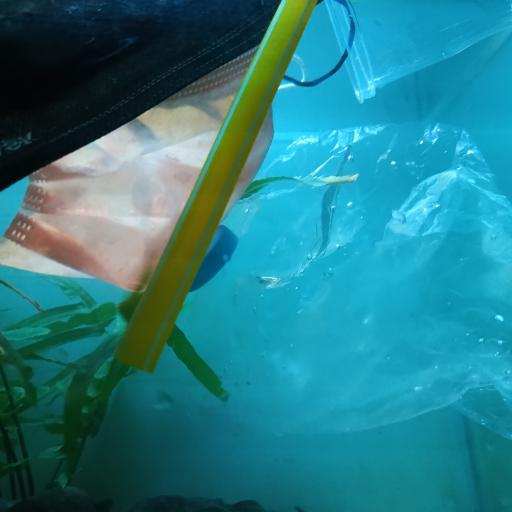mask: (0, 48, 308, 293), (0, 0, 357, 193)
plastic_bag: (190, 122, 512, 447)
plastic_cup: (325, 0, 512, 101)
plastic_straw: (114, 0, 316, 371)
